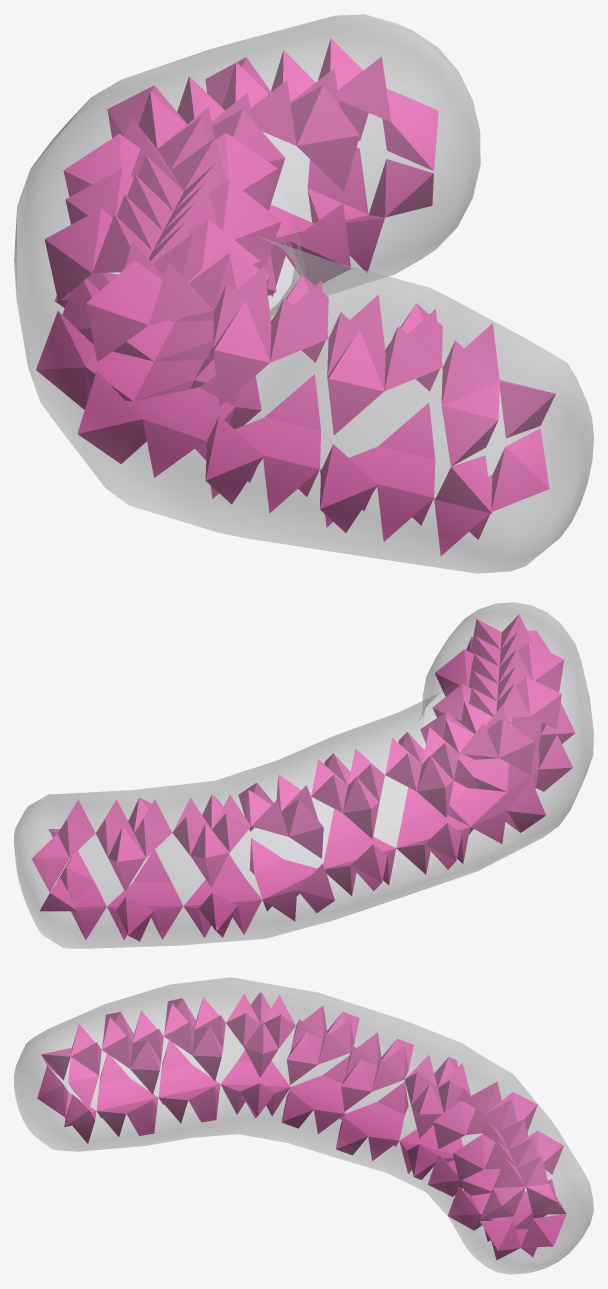
Rendered from MitoHero.fbx.
3 views of the same model, one above another, from view 1: azimuth 30°, elevation 25°; view 2: azimuth 150°, elevation 25°; view 3: azimuth 270°, elevation 25° (orthographic). The views are drawn at different scales.
Visible parts, largest first — view 1: MitoMembraneHeroSingle, MitoSingle; view 2: MitoMembraneHeroSingle, MitoSingle; view 3: MitoMembraneHeroSingle, MitoSingle.
Part boxes in pixels (x1,y1,x2,y2): MitoMembraneHeroSingle: [14, 14, 593, 573]; MitoSingle: [36, 38, 555, 555]; MitoMembraneHeroSingle: [14, 602, 593, 948]; MitoSingle: [31, 614, 575, 941]; MitoMembraneHeroSingle: [14, 977, 593, 1274]; MitoSingle: [37, 992, 566, 1260].
Size of the model in its own units: 2892 by 1432 by 4218.
